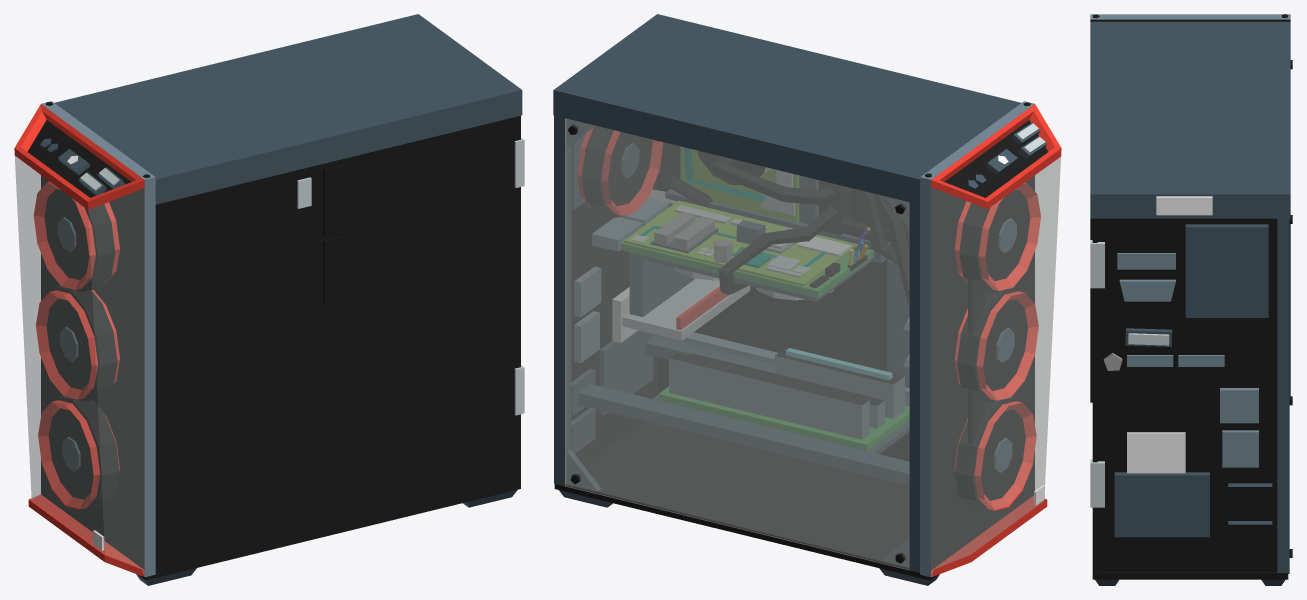
File: furniture-gamingComputer.glb
The picture shows the model from 3 angles, left to right: view 1: azimuth 30°, elevation 25°; view 2: azimuth 150°, elevation 25°; view 3: azimuth 270°, elevation 25°; orthographic projection. The views are drawn at different scales.
Visible parts, largest first — view 1: group1851977708, group549538436, group706968164, group997898928, group614062749, group1403192981, group1882511964, group1874588551, group358629412, group1050079147, group1247630253; view 2: group1867655503, group549538436, group706968164, group358629412, group997898928, group1851977708, group148538432, group1586564780, group614062749, group1403192981, group1882511964, group1179872976 (+37 smaller); view 3: group706968164, group1179872976, group335831164, group1800416953, group2083473735, group1033487155, group997898928, group1851977708, group358629412, group172225094, group1693732898, group761930540 (+9 smaller).
Boxes of the visible parts, x1=… form: group1851977708: x1=155, y1=115, x2=520, y2=573; group549538436: x1=14, y1=104, x2=144, y2=575; group706968164: x1=54, y1=14, x2=522, y2=204; group997898928: x1=41, y1=101, x2=155, y2=576; group614062749: x1=36, y1=285, x2=119, y2=401; group1403192981: x1=38, y1=395, x2=119, y2=511; group1882511964: x1=33, y1=181, x2=119, y2=291; group1874588551: x1=28, y1=494, x2=144, y2=576; group358629412: x1=139, y1=484, x2=520, y2=580; group1050079147: x1=323, y1=163, x2=348, y2=234; group1247630253: x1=323, y1=235, x2=348, y2=303; group1867655503: x1=565, y1=118, x2=909, y2=569; group549538436: x1=931, y1=104, x2=1061, y2=576; group706968164: x1=553, y1=14, x2=1020, y2=204; group358629412: x1=554, y1=421, x2=937, y2=580; group997898928: x1=920, y1=101, x2=1034, y2=577; group1851977708: x1=658, y1=142, x2=909, y2=461; group148538432: x1=669, y1=353, x2=869, y2=439; group1586564780: x1=578, y1=384, x2=909, y2=485; group614062749: x1=954, y1=286, x2=1038, y2=402; group1403192981: x1=954, y1=396, x2=1036, y2=512; group1882511964: x1=954, y1=182, x2=1040, y2=292; group1179872976: x1=571, y1=177, x2=657, y2=464; group706968164: x1=1090, y1=21, x2=1290, y2=218; group1179872976: x1=1097, y1=218, x2=1277, y2=571; group335831164: x1=1185, y1=224, x2=1268, y2=317; group1800416953: x1=1114, y1=472, x2=1209, y2=537; group2083473735: x1=1277, y1=218, x2=1289, y2=573; group1033487155: x1=1127, y1=432, x2=1185, y2=473; group997898928: x1=1090, y1=14, x2=1290, y2=402; group1851977708: x1=1092, y1=218, x2=1097, y2=572; group358629412: x1=1092, y1=572, x2=1288, y2=579; group172225094: x1=1228, y1=483, x2=1272, y2=515; group1693732898: x1=1228, y1=521, x2=1272, y2=553; group761930540: x1=1222, y1=430, x2=1258, y2=467.
Bounding box in the file's own units: 0.7744 × 0.719 × 0.3311.
